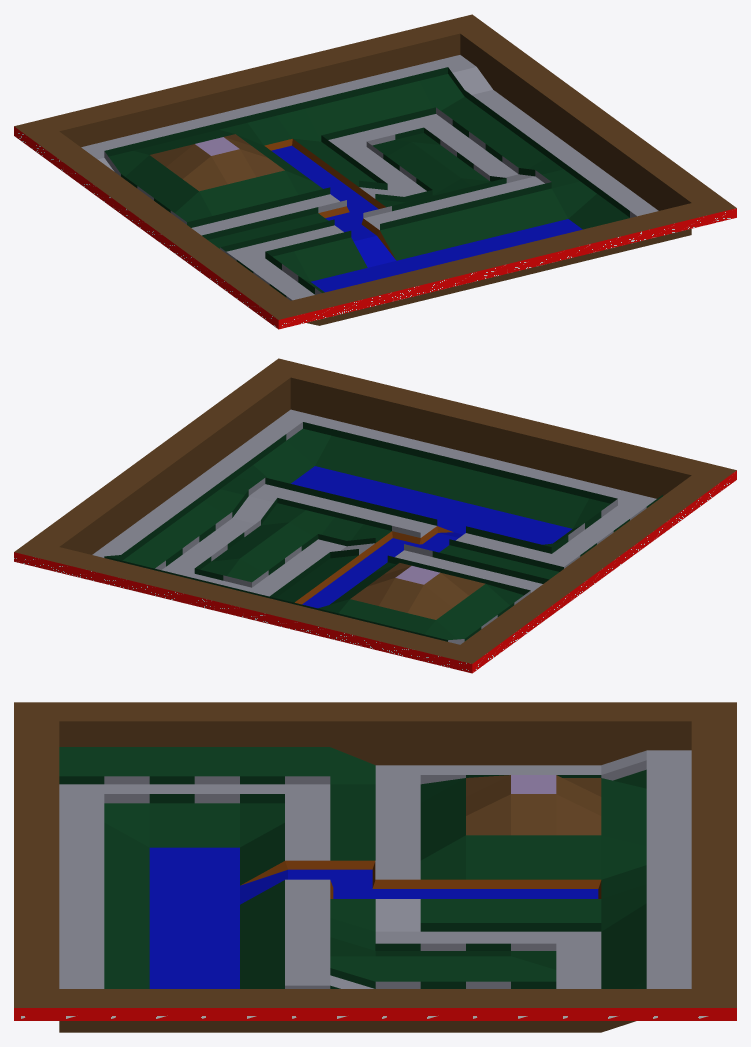
The model's file is BlockyRock.glb.
3 renders of one model, top to bottom at view 1: azimuth 30°, elevation 25°; view 2: azimuth 150°, elevation 25°; view 3: azimuth 270°, elevation 25°, orthographic. The views are drawn at different scales.
Visible parts, largest first — view 1: BlockyRock; view 2: BlockyRock; view 3: BlockyRock.
Boxes of the visible parts, x1,y1,x2,y2 form: BlockyRock: (14, 14, 736, 329); BlockyRock: (14, 358, 736, 673); BlockyRock: (14, 702, 736, 1032).
Bounding box in the file's own units: 1000 × 111 × 1000.
1 material, 1 textured.
